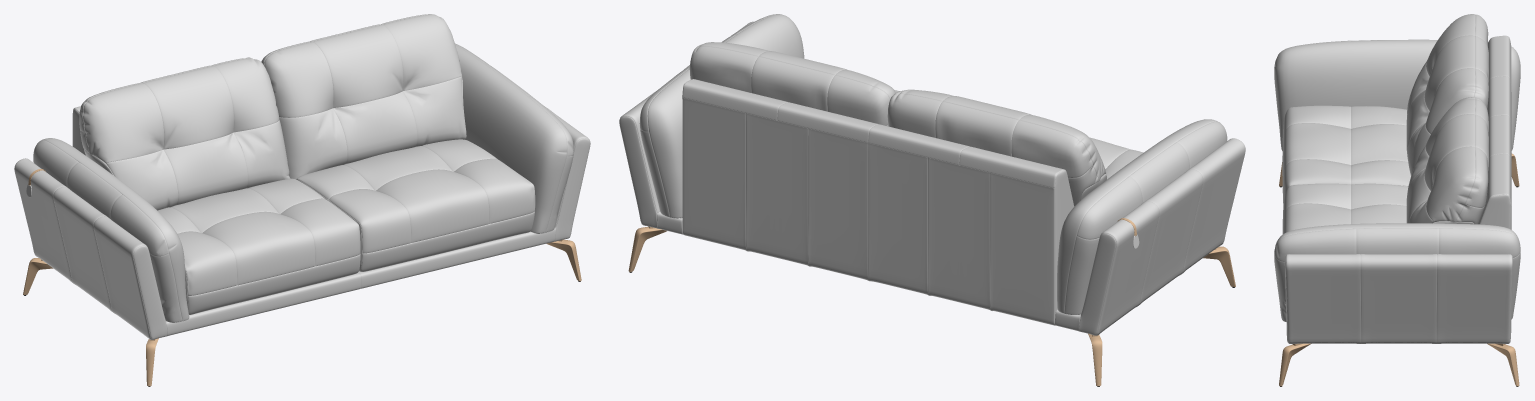
The model's file is SBH_ELENA_2_Seater.glb.
The picture shows the model from 3 angles, left to right: view 1: azimuth 30°, elevation 25°; view 2: azimuth 150°, elevation 25°; view 3: azimuth 270°, elevation 25°; orthographic projection. The views are drawn at different scales.
Visible parts, largest first — view 1: ELENA_2_Seater; view 2: ELENA_2_Seater; view 3: ELENA_2_Seater.
Boxes of the visible parts, left/top/right/bottom form: ELENA_2_Seater: left=14, top=14, right=590, bottom=386; ELENA_2_Seater: left=619, top=14, right=1245, bottom=386; ELENA_2_Seater: left=1274, top=14, right=1520, bottom=386.
Bounding box in the file's own units: 2.03 × 0.8711 × 0.9915.
